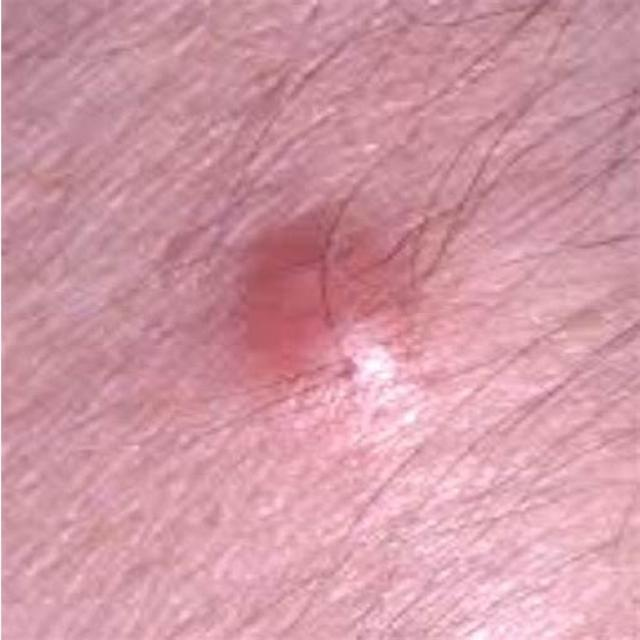nodule: (202, 215, 411, 408)
